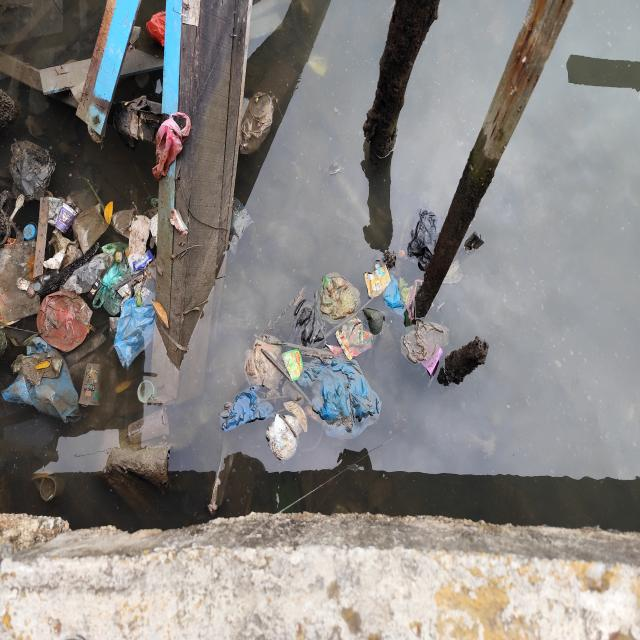Botol Plastik: (33, 281, 44, 293)
Bungkus Makanan: (335, 317, 376, 357), (134, 251, 154, 272)
Bungkus Minuman: (128, 408, 174, 447), (80, 362, 103, 412), (361, 265, 392, 299), (54, 204, 80, 235)
Kantong Plastik: (298, 352, 385, 440), (3, 338, 86, 430), (35, 291, 94, 351), (114, 300, 162, 363), (398, 317, 452, 368), (315, 269, 361, 324), (224, 383, 274, 432), (404, 202, 439, 267), (288, 295, 329, 350), (95, 262, 133, 315), (75, 203, 109, 250), (232, 198, 253, 240), (145, 7, 167, 46), (384, 275, 405, 312)
